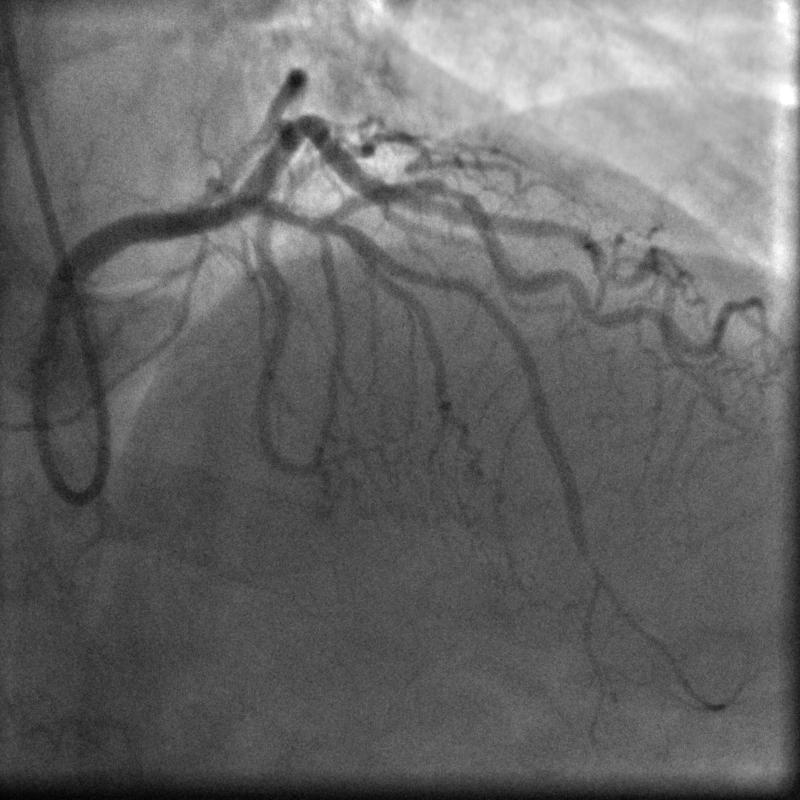Stenosis: (428, 176, 477, 208)
